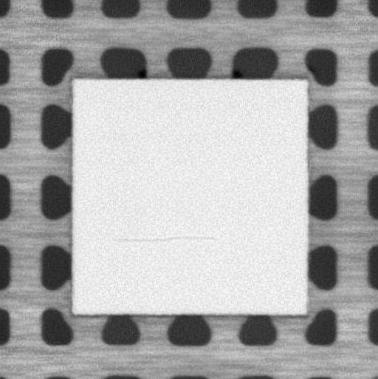DIE_CRACK: (112, 230, 216, 248)
